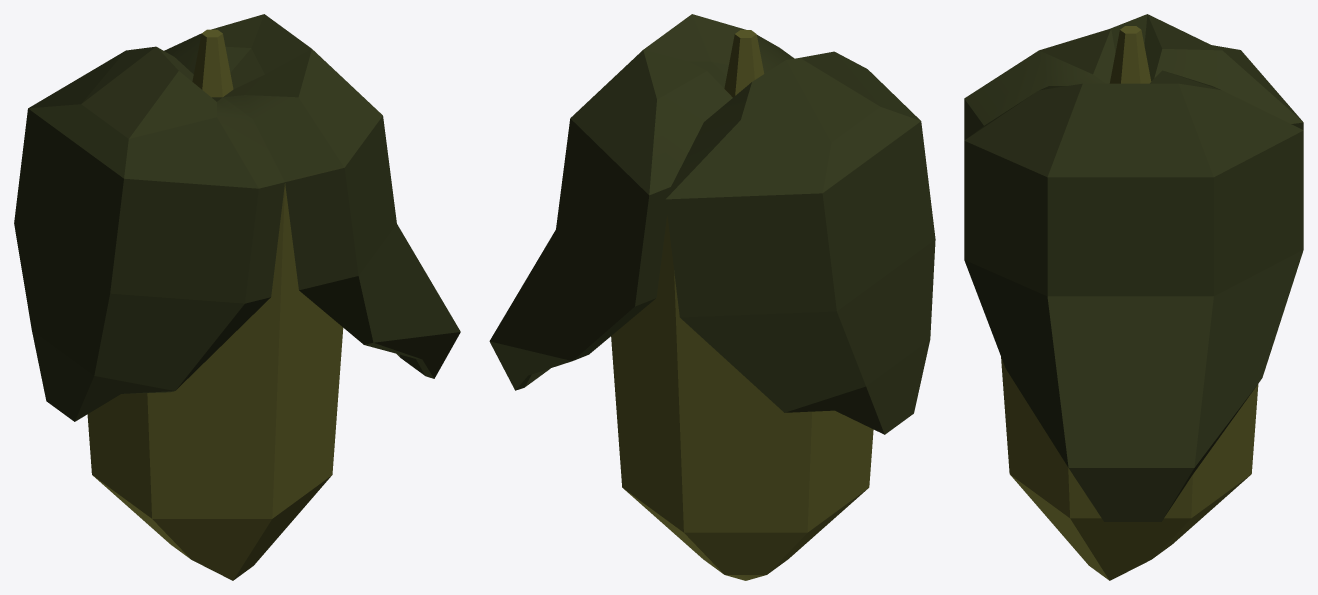
The picture shows the model from 3 angles, left to right: view 1: azimuth 30°, elevation 25°; view 2: azimuth 150°, elevation 25°; view 3: azimuth 270°, elevation 25°; orthographic projection. The views are drawn at different scales.
Parts seen in each view (by area): view 1: 玉米_pCylinder8; view 2: 玉米_pCylinder8; view 3: 玉米_pCylinder8.
Part boxes in pixels (box(x1,y1,x2,y2)): 玉米_pCylinder8: box(14, 14, 460, 580); 玉米_pCylinder8: box(489, 14, 935, 580); 玉米_pCylinder8: box(964, 14, 1303, 580).
Bounding box in the file's own units: 18.21 × 14.43 × 25.13.
